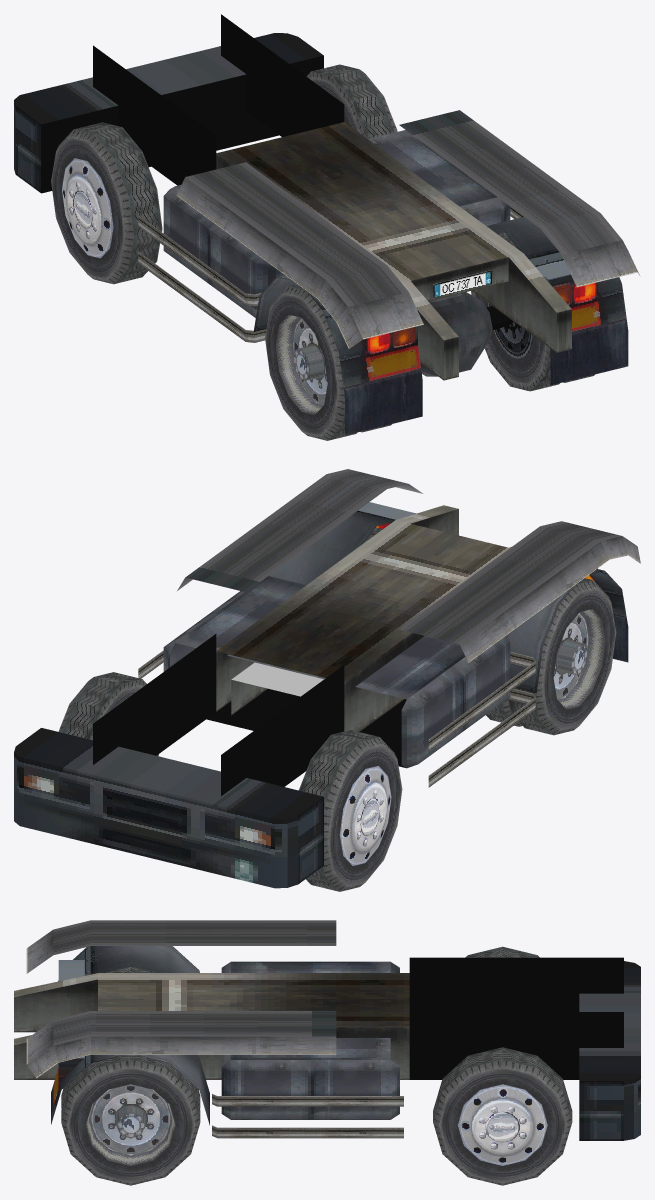
Rendered from othcar-11.glb.
3 views of the same model, one above another, from view 1: azimuth 30°, elevation 25°; view 2: azimuth 150°, elevation 25°; view 3: azimuth 270°, elevation 25° (orthographic). The views are drawn at different scales.
Parts seen in each view (by area): view 1: body, wheel RL, wheel FL, wheel FR, wheel RR; view 2: body, wheel RL, wheel FL, wheel RR; view 3: body, wheel RR, wheel FR, wheel RL.
Part boxes in pixels (x1,y1,x2,y2): body: (14,14,640,435); wheel RL: (51,122,162,284); wheel FL: (265,283,391,440); wheel FR: (471,233,594,391); wheel RR: (306,64,397,138); body: (14,469,640,888); wheel RL: (298,730,402,891); wheel FL: (486,578,616,735); wheel RR: (58,672,158,756); body: (14,920,640,1140); wheel RR: (433,1047,572,1185); wheel FR: (61,1054,200,1185); wheel RL: (465,946,539,957).
Size of the model in its own units: 2.52 by 1.43 by 5.4.
10 materials, 8 textured.
